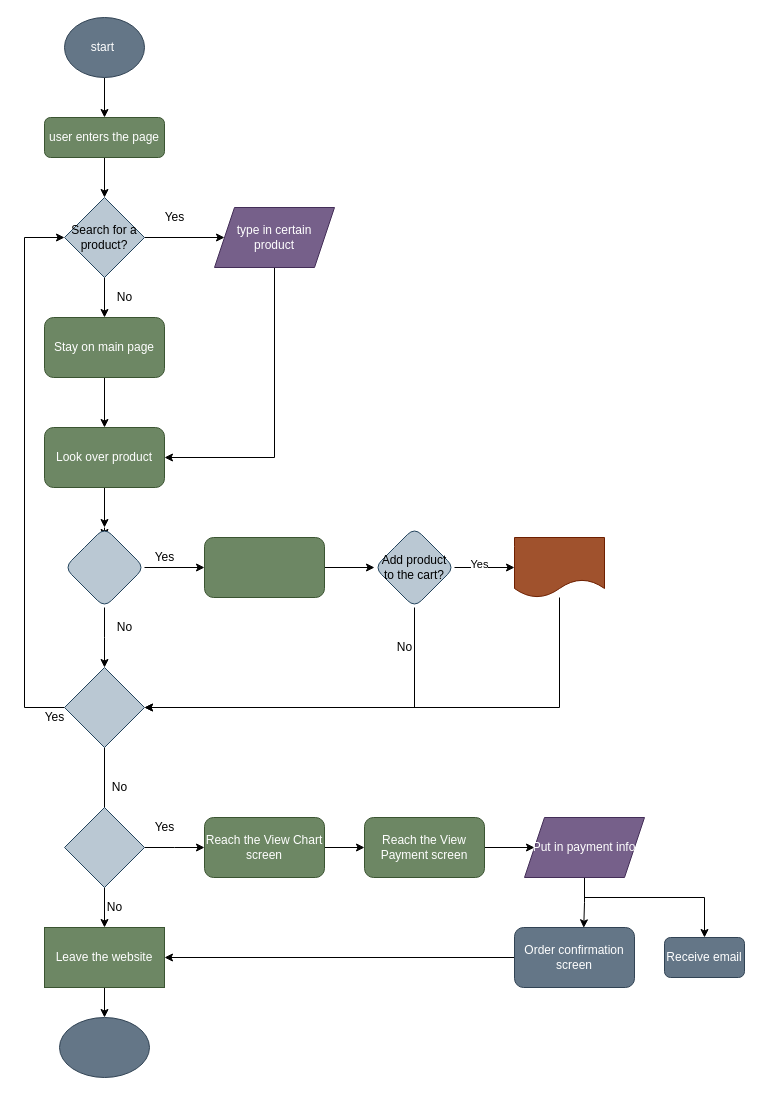
Image size: 762x1095. Some labels were removed from this diagram. Here are the shapes that lost their labels. From the top down, the centre of each, then its label:
At point 104,567: "View a specific product?".
At point 264,567: "Product page opens up".
At point 559,567: "Added to cart confirmation".
At point 104,707: "Conditnue shopping?".
At point 104,847: "Checkout?".
At point 104,1047: "End".
